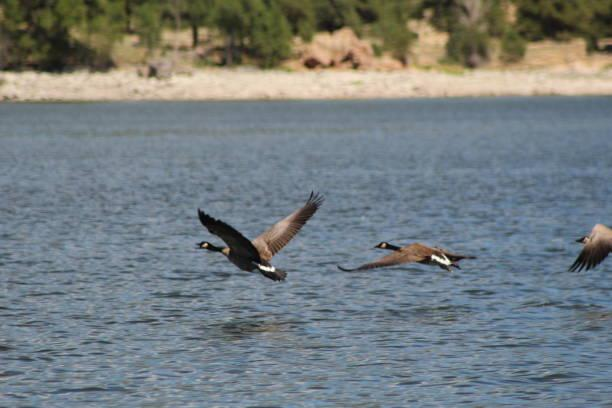Canadian-Goose: (193, 191, 324, 282), (335, 238, 466, 272), (570, 226, 612, 270)
